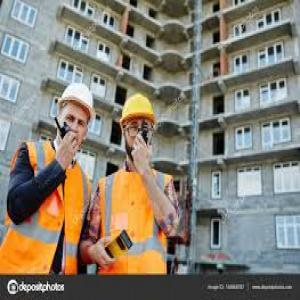white: (55, 81, 95, 156)
yellow: (120, 95, 157, 165)
